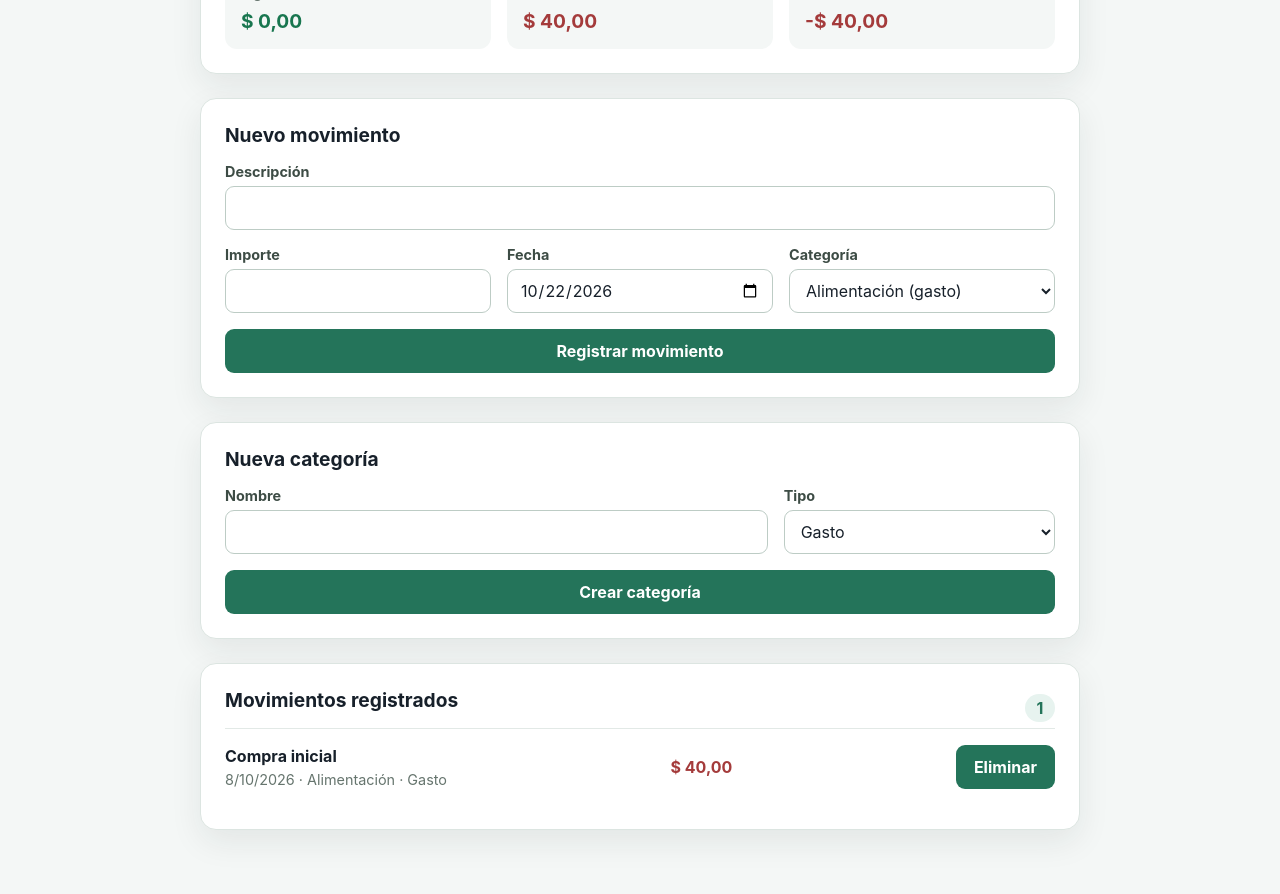
Test: MovementsPage › informa errores al crear categorías y movimientos
The width and height of the screenshot is (1280, 894).
(page scrolled)
Expected: the text "Compra inicial" is shown, [225,746,337,766]
Expected: the dropdown labelled "Categoría" shows "Alimentación (gasto)", [789,269,1055,313]
Type "Alimentación" into the field labelled "Nombre" at x=496, y=532, box [225,510,768,554]
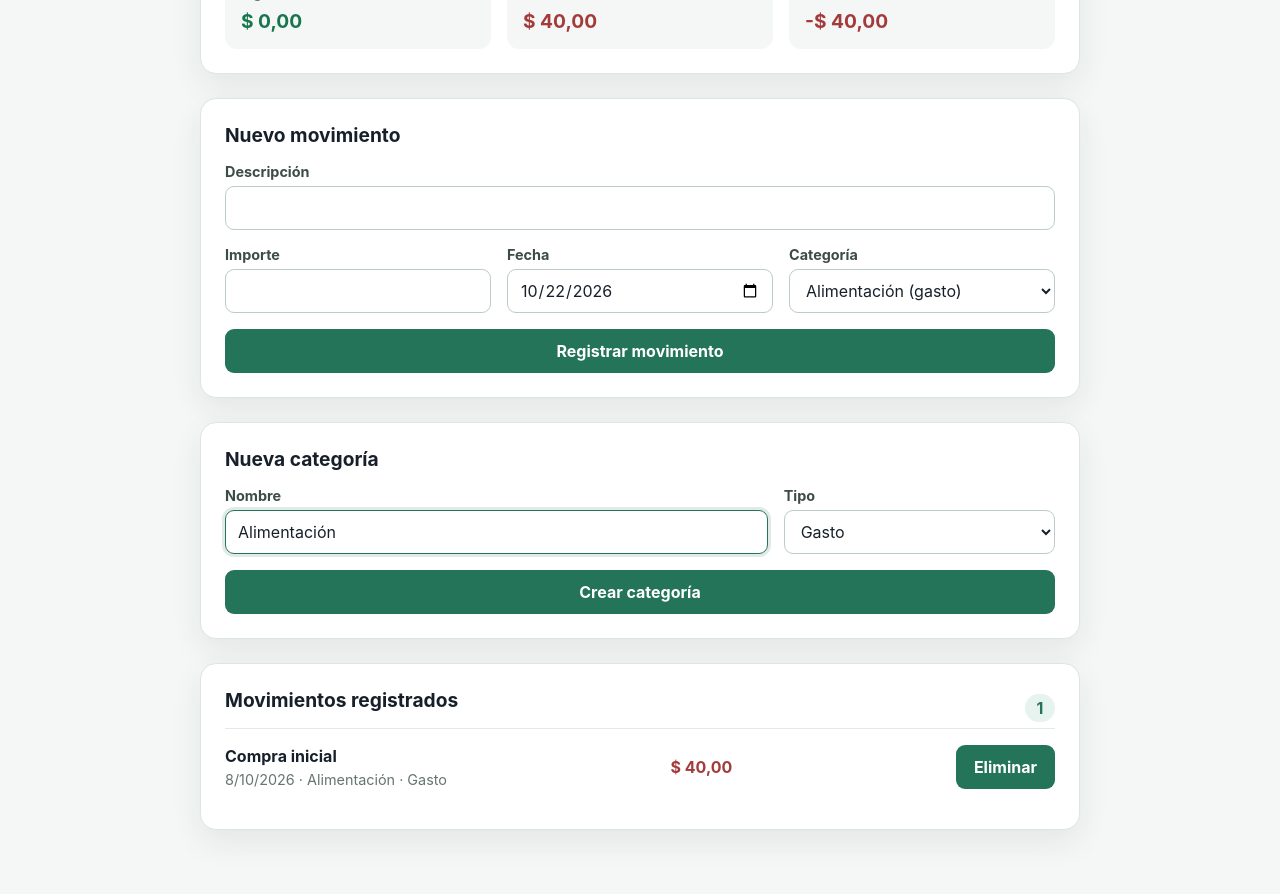
Click the button "Crear categoría" at x=640, y=592, box [225,570,1055,614]
(page scrolled)
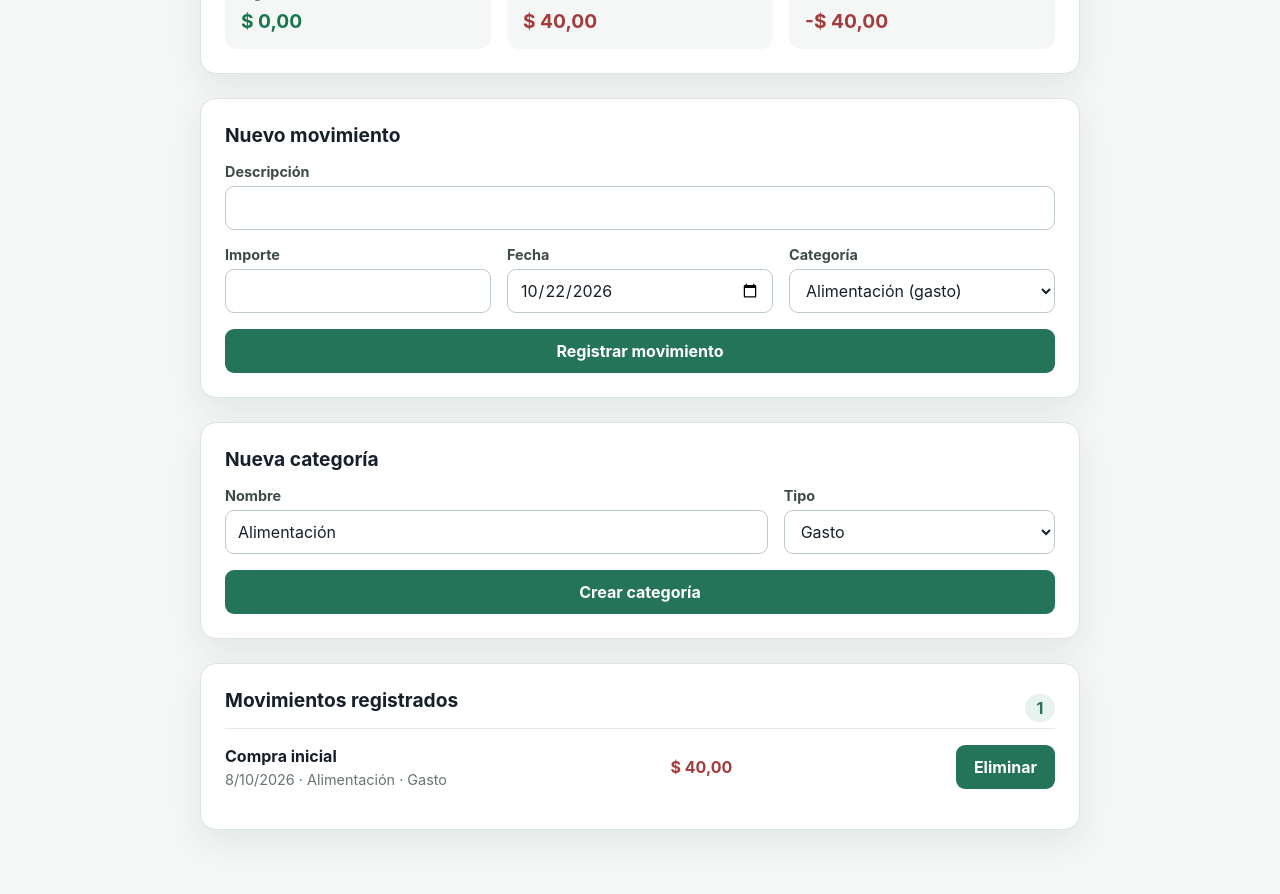
Type "Compra" into the field labelled "Descripción" at x=640, y=208, box [225,186,1055,230]
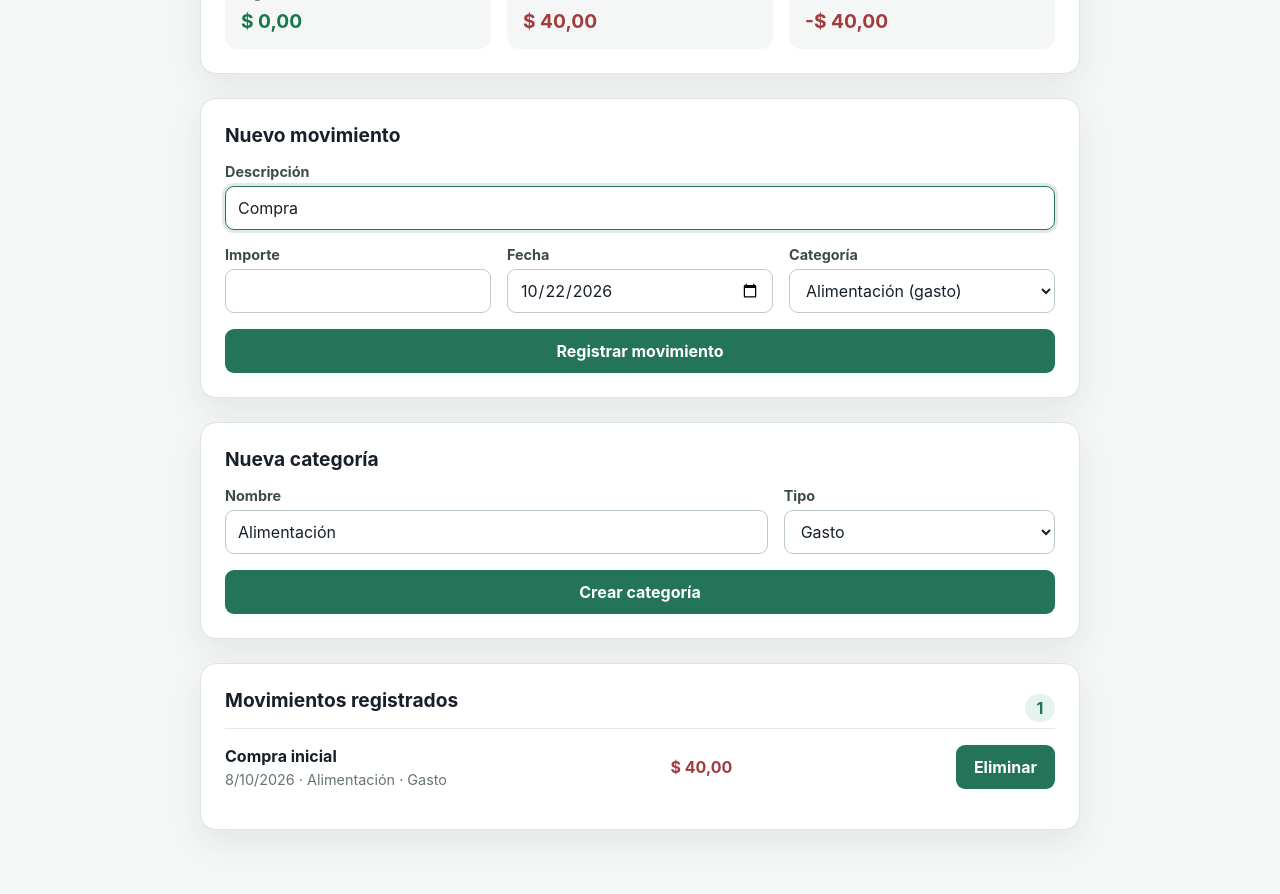
Type "10" into the number field labelled "Importe" at x=358, y=291, box [225,269,491,313]
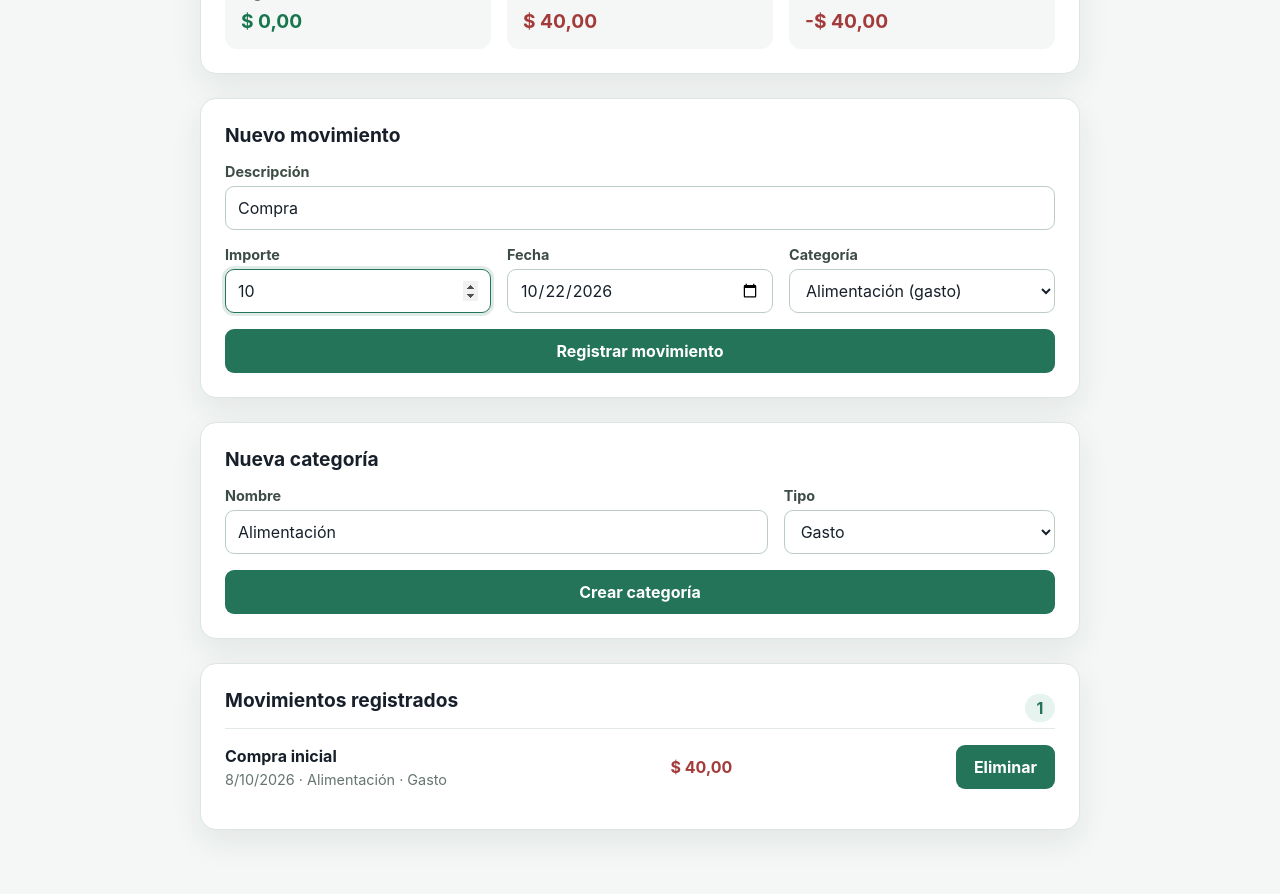
Submit the form "Registrar movimiento", box [225,163,1055,373]
(page scrolled)
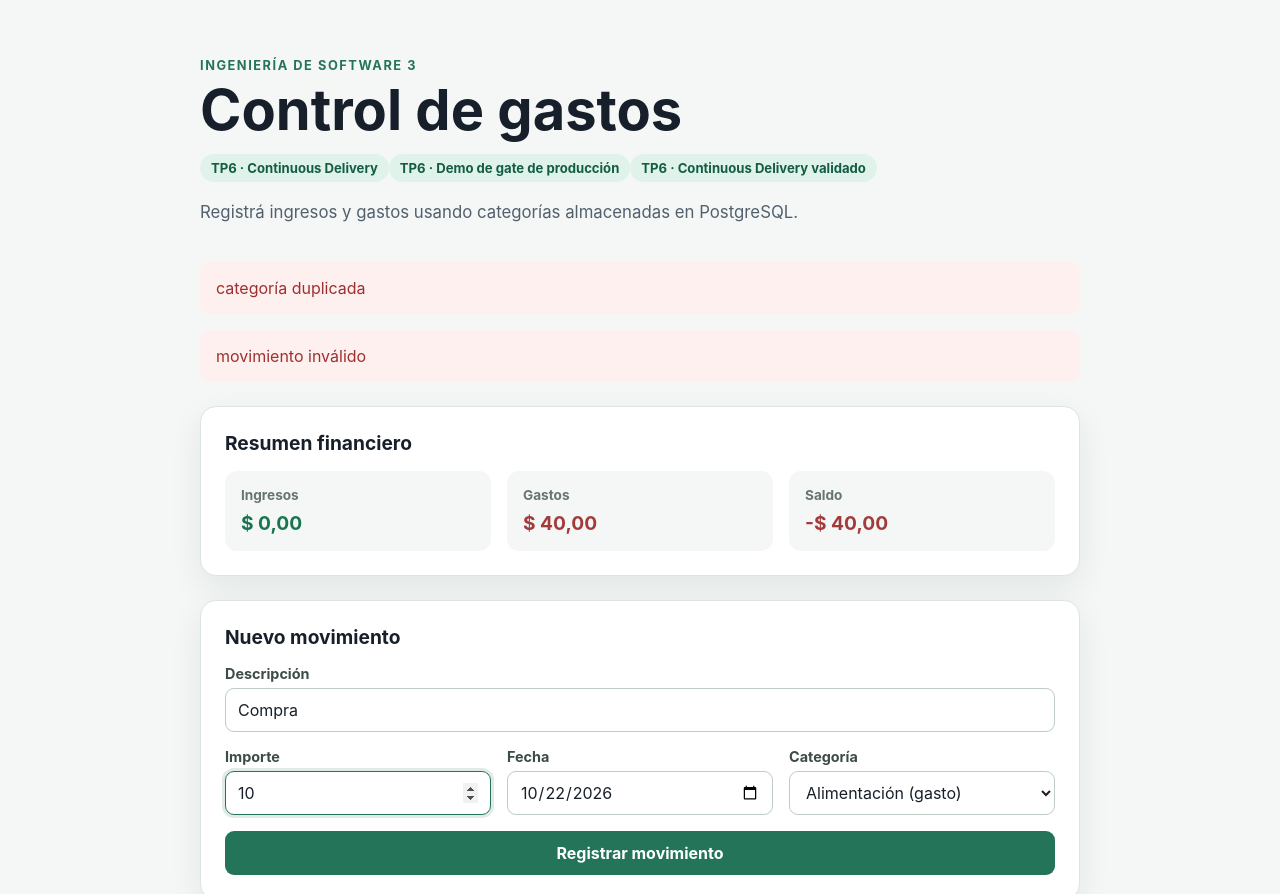
Expected: the text "categoría duplicada" is shown, [200,262,1080,314]
Expected: the text "movimiento inválido" is shown, [200,330,1080,382]
